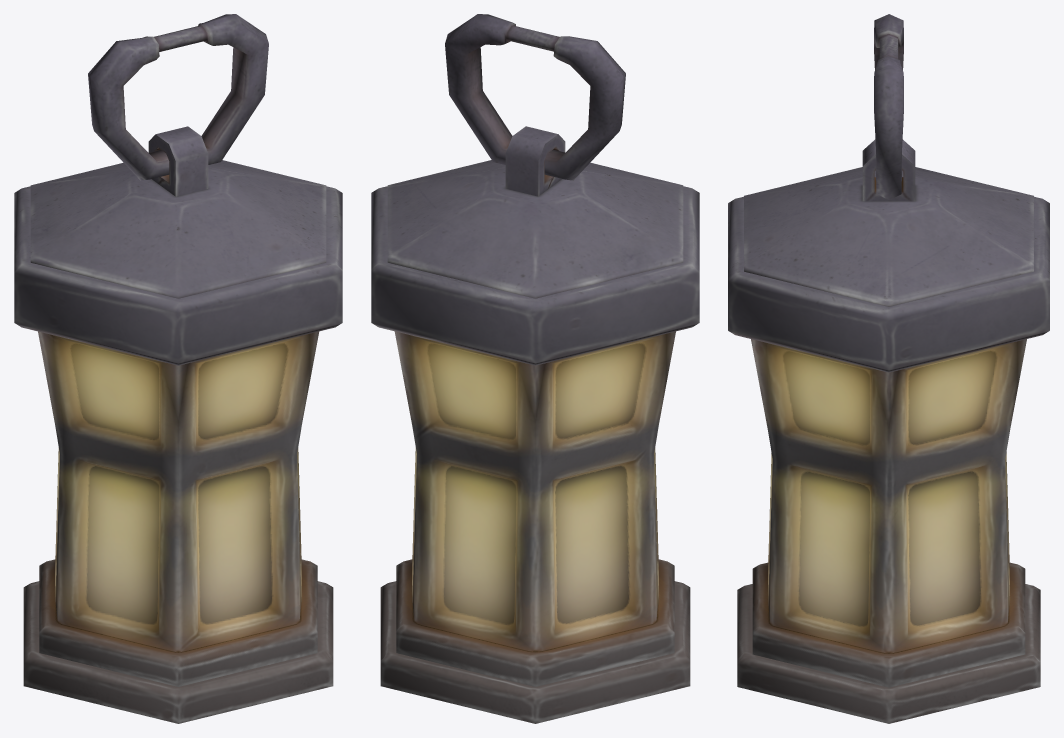
The model's file is lantern.glb.
3 renders of one model, left to right at view 1: azimuth 30°, elevation 25°; view 2: azimuth 150°, elevation 25°; view 3: azimuth 270°, elevation 25°, orthographic.
Visible parts, largest first — view 1: lantern; view 2: lantern; view 3: lantern.
Part boxes in pixels (x1,y1,x2,y2): lantern: [14, 14, 342, 723]; lantern: [371, 14, 699, 723]; lantern: [728, 14, 1049, 723].
Size of the model in its own units: 0.41 by 0.7406 by 0.355.
1 material, 1 textured.
